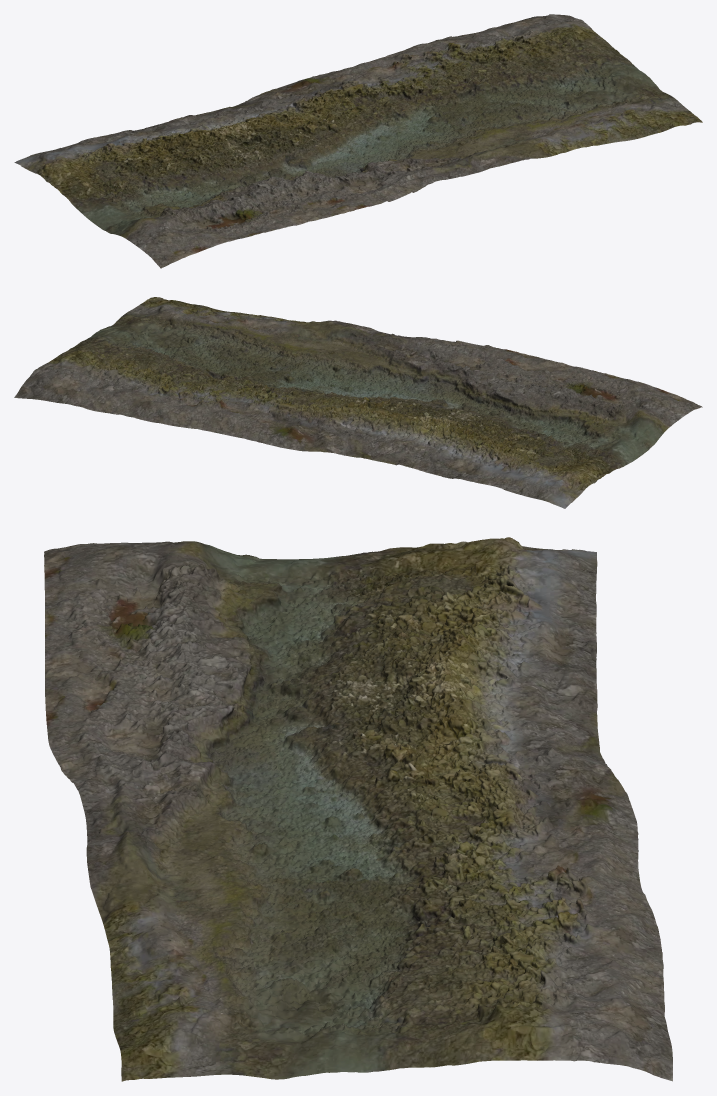
The model's file is polyhaven-coast-line-02.glb.
The picture shows the model from 3 angles, top to bottom: view 1: azimuth 30°, elevation 25°; view 2: azimuth 150°, elevation 25°; view 3: azimuth 270°, elevation 25°; orthographic projection. The views are drawn at different scales.
Parts seen in each view (by area): view 1: coast_line_02; view 2: coast_line_02; view 3: coast_line_02.
Part boxes in pixels (x1,y1,x2,y2): coast_line_02: (14, 14, 702, 268); coast_line_02: (14, 297, 702, 508); coast_line_02: (44, 537, 672, 1081).
Bounding box in the file's own units: 45.64 × 2.28 × 23.28.
1 material, 1 textured.
